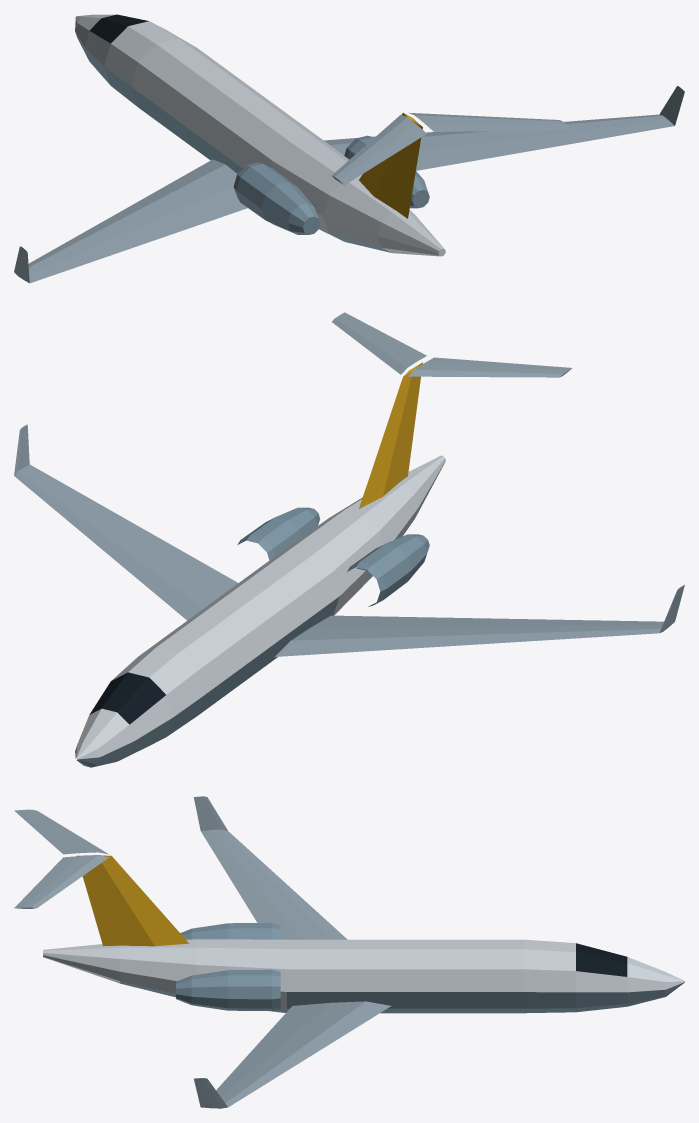
3 views of the same model, one above another, from view 1: azimuth 30°, elevation 25°; view 2: azimuth 150°, elevation 25°; view 3: azimuth 270°, elevation 25° (orthographic). The views are drawn at different scales.
Parts seen in each view (by area): view 1: lod0; view 2: lod0; view 3: lod0.
Boxes of the visible parts, left/top/right/bottom form: lod0: left=14, top=14, right=684, bottom=283; lod0: left=14, top=312, right=684, bottom=767; lod0: left=14, top=796, right=684, bottom=1108.
Size of what is drawn, in the model's own units: 0.9927 by 0.254 by 1.
